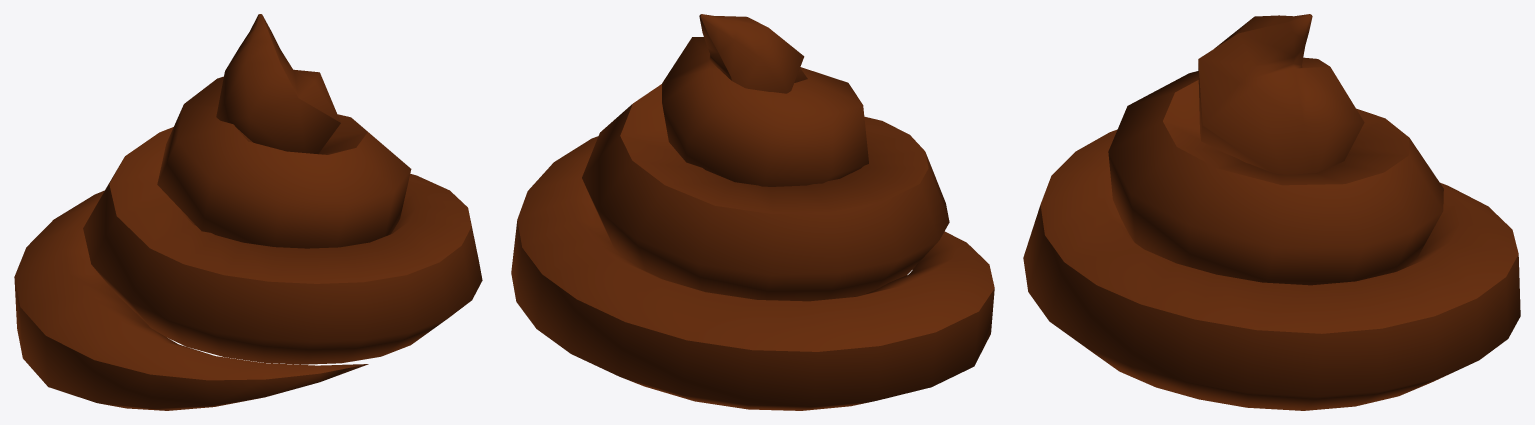
File: Turd.glb
3 renders of one model, left to right at view 1: azimuth 30°, elevation 25°; view 2: azimuth 150°, elevation 25°; view 3: azimuth 270°, elevation 25°, orthographic. The views are drawn at different scales.
Visible parts, largest first — view 1: Turd; view 2: Turd; view 3: Turd.
Part boxes in pixels (x1,y1,x2,y2): Turd: (14, 14, 482, 410); Turd: (511, 14, 994, 410); Turd: (1023, 14, 1520, 410).
Bounding box in the file's own units: 1.56 × 1.16 × 1.45.
